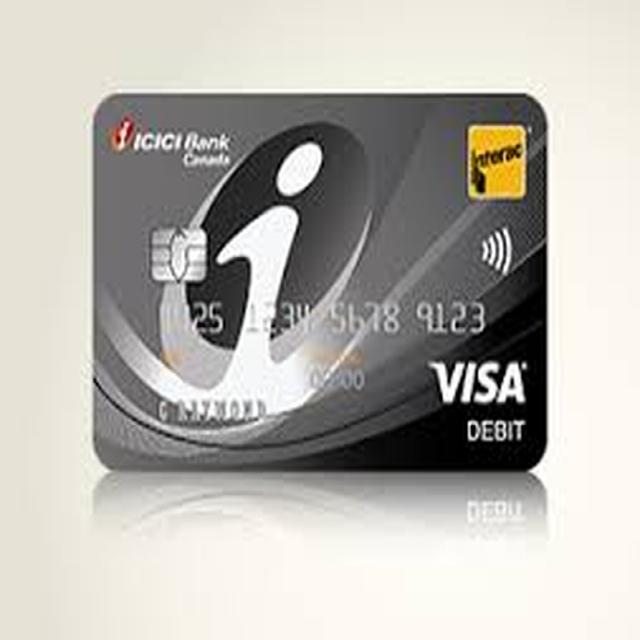card: (80, 86, 544, 486)
